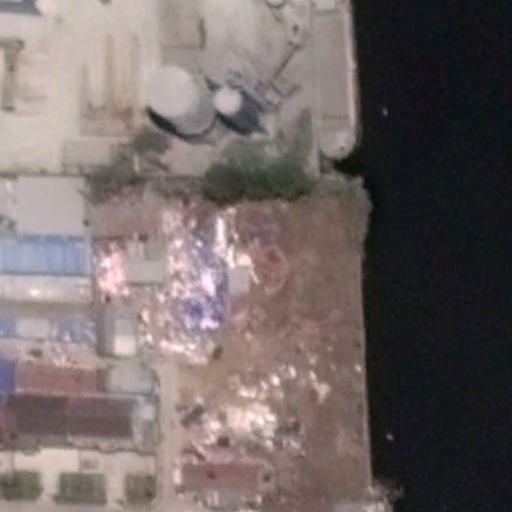msw: (90, 213, 250, 366), (190, 371, 330, 459)
